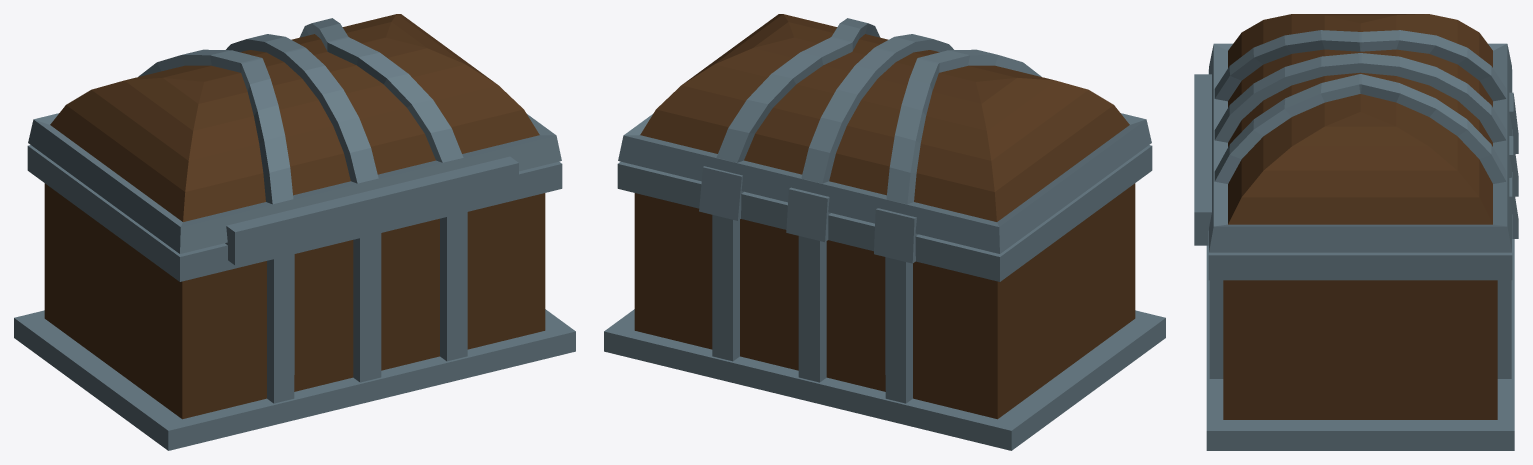
Rendered from chest.fbx.
3 renders of one model, left to right at view 1: azimuth 30°, elevation 25°; view 2: azimuth 150°, elevation 25°; view 3: azimuth 270°, elevation 25°, orthographic.
Parts seen in each view (by area): view 1: Cube, Cube.003, Cube.006, Cube.005, Cube.007, Cube.004, Cube.001, Cube.002; view 2: Cube, Cube.003, Cube.006, Cube.005, Cube.004, Cube.001, Cube.002, Cube.009, Cube.008, Cube.010; view 3: Cube, Cube.003, Cube.005, Cube.004, Cube.006, Cube.002, Cube.007, Cube.001, Cube.010, Cube.009, Cube.008.
Boxes of the visible parts, bbox=[...] form: Cube: bbox=[44, 183, 545, 419]; Cube.003: bbox=[50, 14, 539, 221]; Cube.006: bbox=[14, 309, 575, 450]; Cube.005: bbox=[138, 18, 463, 204]; Cube.007: bbox=[225, 156, 518, 265]; Cube.004: bbox=[28, 113, 561, 253]; Cube.001: bbox=[267, 212, 467, 403]; Cube.002: bbox=[27, 145, 562, 281]; Cube: bbox=[634, 183, 1135, 419]; Cube.003: bbox=[640, 14, 1129, 221]; Cube.006: bbox=[604, 309, 1165, 450]; Cube.005: bbox=[716, 18, 1041, 204]; Cube.004: bbox=[618, 113, 1151, 253]; Cube.001: bbox=[712, 215, 912, 403]; Cube.002: bbox=[617, 145, 1152, 281]; Cube.009: bbox=[874, 208, 918, 263]; Cube.008: bbox=[786, 187, 830, 242]; Cube.010: bbox=[699, 166, 743, 220]; Cube: bbox=[1223, 280, 1497, 419]; Cube.003: bbox=[1228, 14, 1492, 224]; Cube.005: bbox=[1214, 30, 1506, 183]; Cube.004: bbox=[1209, 43, 1511, 252]; Cube.006: bbox=[1206, 239, 1514, 450]; Cube.002: bbox=[1208, 69, 1512, 280]; Cube.007: bbox=[1194, 74, 1211, 245]; Cube.001: bbox=[1209, 280, 1511, 378]; Cube.010: bbox=[1509, 177, 1518, 238]; Cube.009: bbox=[1509, 92, 1518, 153]; Cube.008: bbox=[1509, 136, 1518, 196].
Size of the model in its own units: 449 by 310 by 310.
